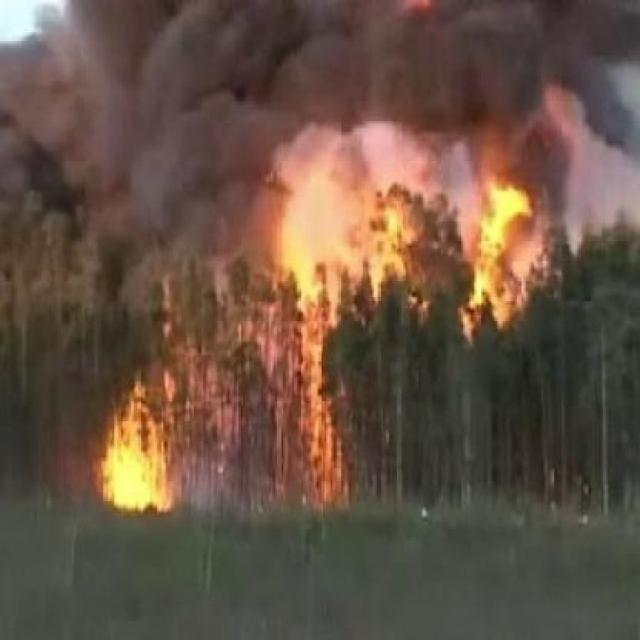Fire: (232, 186, 550, 362), (67, 329, 216, 546)
Smoke: (0, 0, 640, 209)
